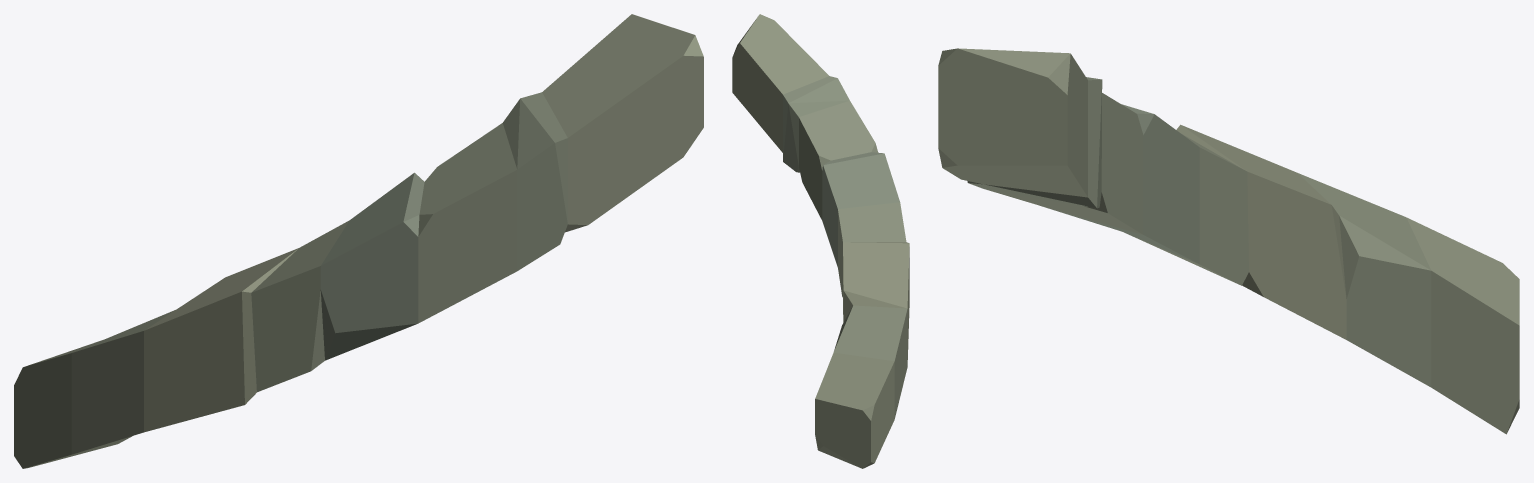
File: ramp_spiral_wide_railing_inside_short_counter.fbx
3 renders of one model, left to right at view 1: azimuth 30°, elevation 25°; view 2: azimuth 150°, elevation 25°; view 3: azimuth 270°, elevation 25°, orthographic. The views are drawn at different scales.
Parts seen in each view (by area): view 1: ramp_spiral_wide_railing_inside_short_counter; view 2: ramp_spiral_wide_railing_inside_short_counter; view 3: ramp_spiral_wide_railing_inside_short_counter.
Boxes of the visible parts, x1=… form: ramp_spiral_wide_railing_inside_short_counter: x1=14, y1=14, x2=703, y2=468; ramp_spiral_wide_railing_inside_short_counter: x1=732, y1=14, x2=909, y2=468; ramp_spiral_wide_railing_inside_short_counter: x1=938, y1=48, x2=1519, y2=434.
Bounding box in the file's own units: 225 × 250 × 225.
